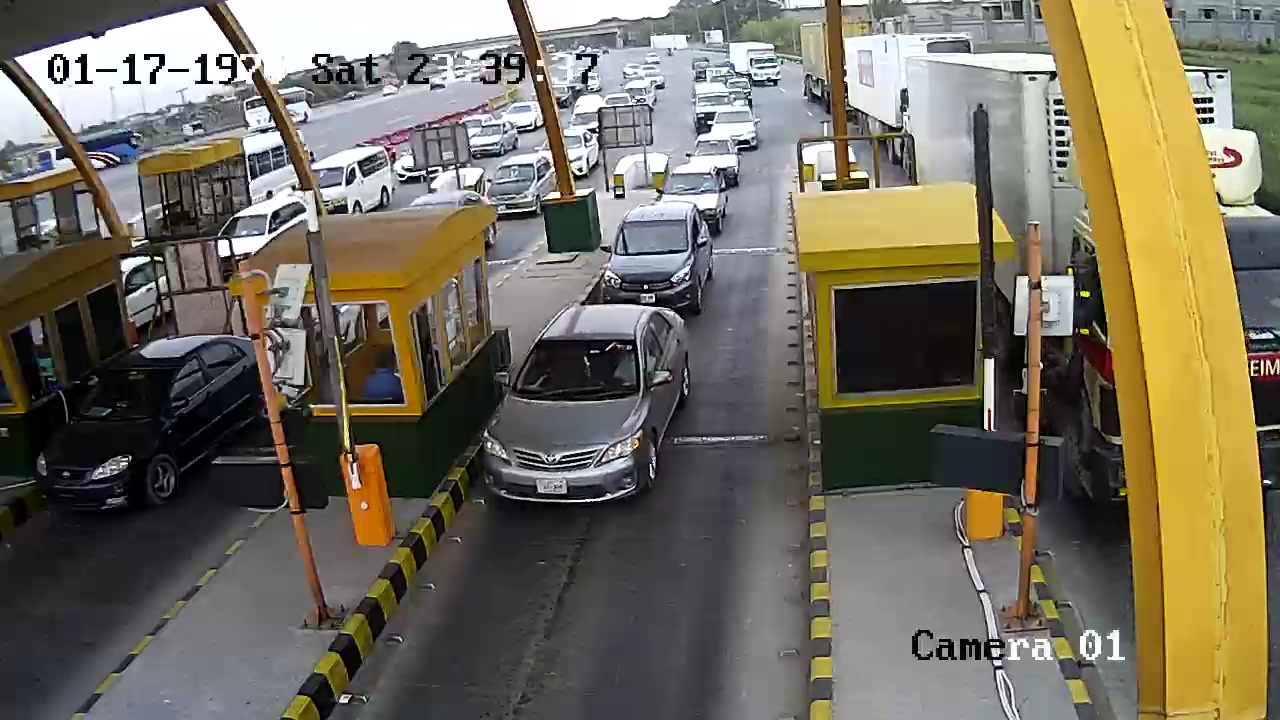F1: (470, 300, 727, 513)
